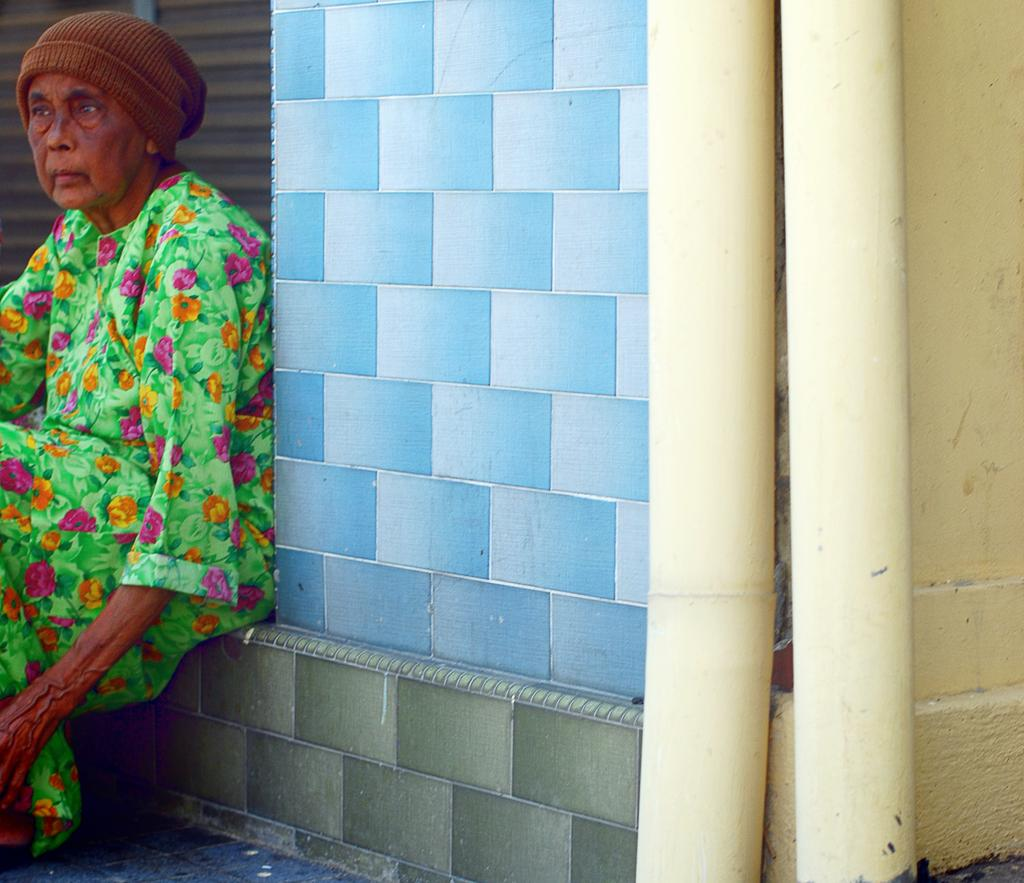Hat: (2, 2, 219, 208)
